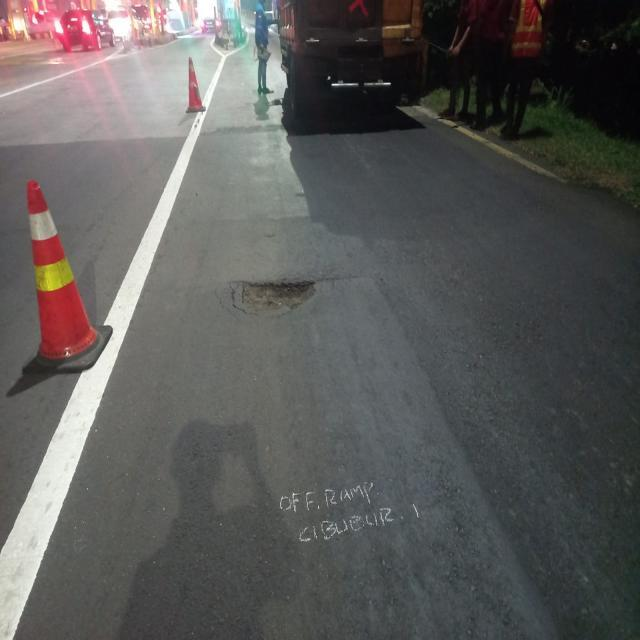Buraco: (225, 278, 320, 320)
